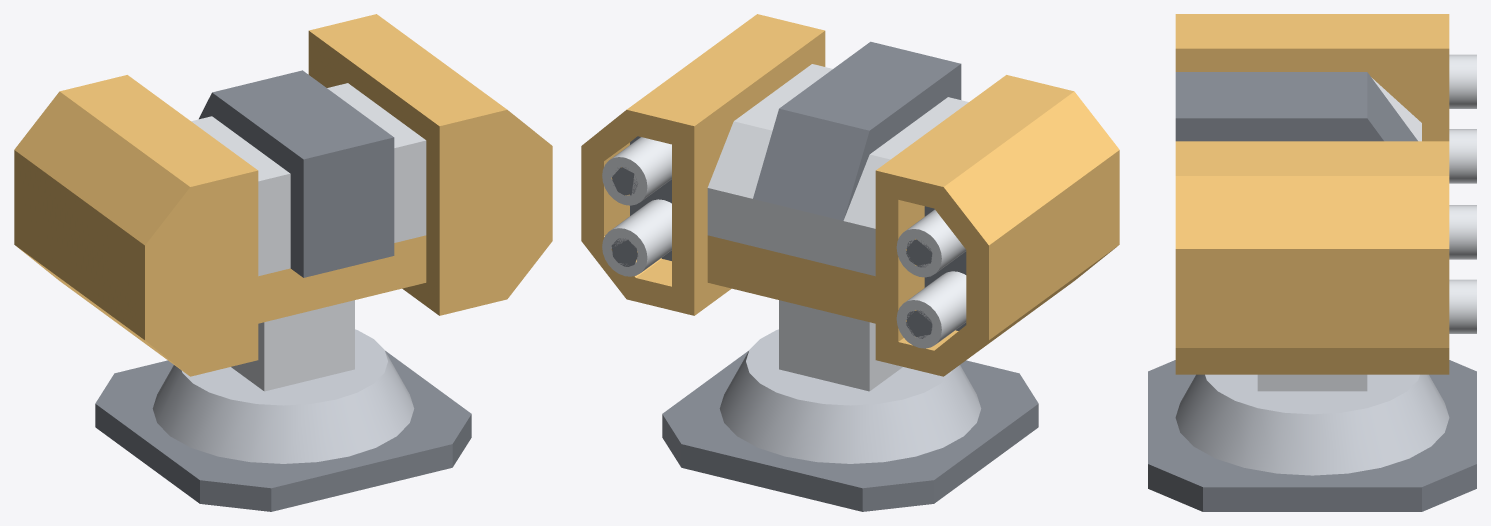
Rendered from kenney_turret.glb.
3 renders of one model, left to right at view 1: azimuth 30°, elevation 25°; view 2: azimuth 150°, elevation 25°; view 3: azimuth 270°, elevation 25°, orthographic. The views are drawn at different scales.
Visible parts, largest first — view 1: turret, turret_double; view 2: turret, turret_double; view 3: turret, turret_double.
Boxes of the visible parts, x1,y1,x2,y2 form: turret: [14, 14, 552, 376]; turret_double: [95, 300, 471, 511]; turret: [581, 14, 1119, 376]; turret_double: [662, 300, 1038, 511]; turret: [1175, 14, 1476, 374]; turret_double: [1148, 360, 1476, 511].
Size of the model in its own units: 0.9 by 0.7 by 0.6.
